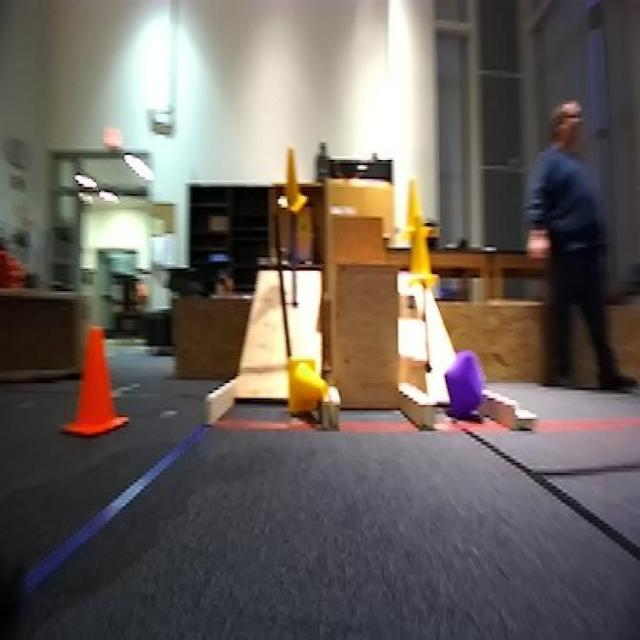frc_cone: (288, 364, 333, 417), (279, 146, 310, 213), (408, 175, 437, 240), (409, 216, 438, 281)
frc_cube: (444, 354, 482, 415)
